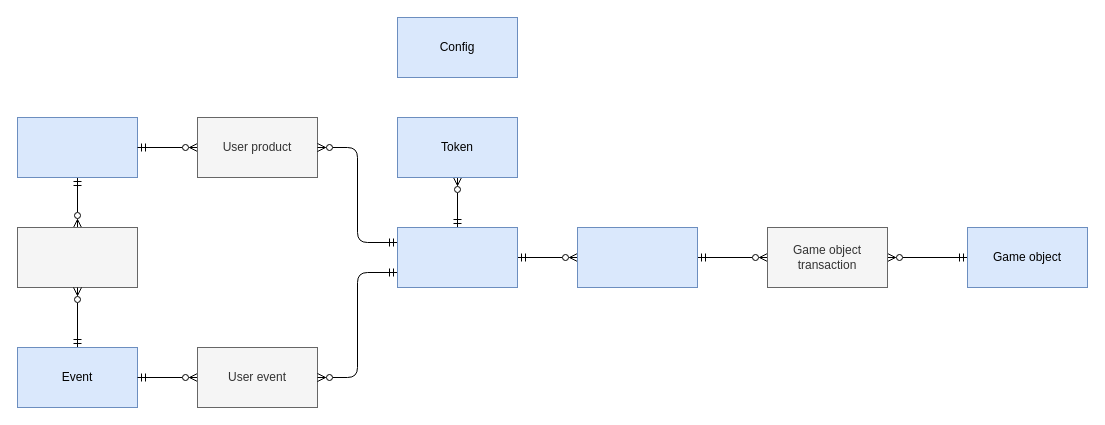
The diagram is 1105 pixels wide and 425 high, and some of its shapes have lost their labels. Each missing label, with the centre of its shape:
"Character" belongs at point (637, 257).
"Event product" belongs at point (77, 257).
"Product" belongs at point (77, 147).
"User" belongs at point (457, 257).
